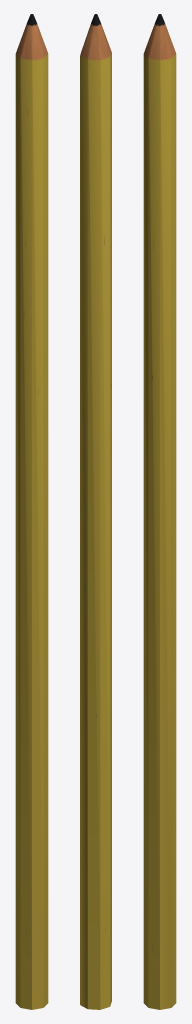
File: Pencil.fbx
3 views of the same model, side by side, from view 1: azimuth 90°, elevation 25°; view 2: azimuth 150°, elevation 25°; view 3: azimuth 270°, elevation 25° (orthographic).
Parts seen in each view (by area): view 1: Pencil; view 2: Pencil; view 3: Pencil.
Part boxes in pixels (bbox=[...]): Pencil: bbox=[15, 14, 48, 1009]; Pencil: bbox=[80, 14, 111, 1009]; Pencil: bbox=[143, 14, 176, 1009].
Size of the model in its own units: 0.003 by 0.003 by 0.0996.
Materials: 1 (1 with a texture image).
